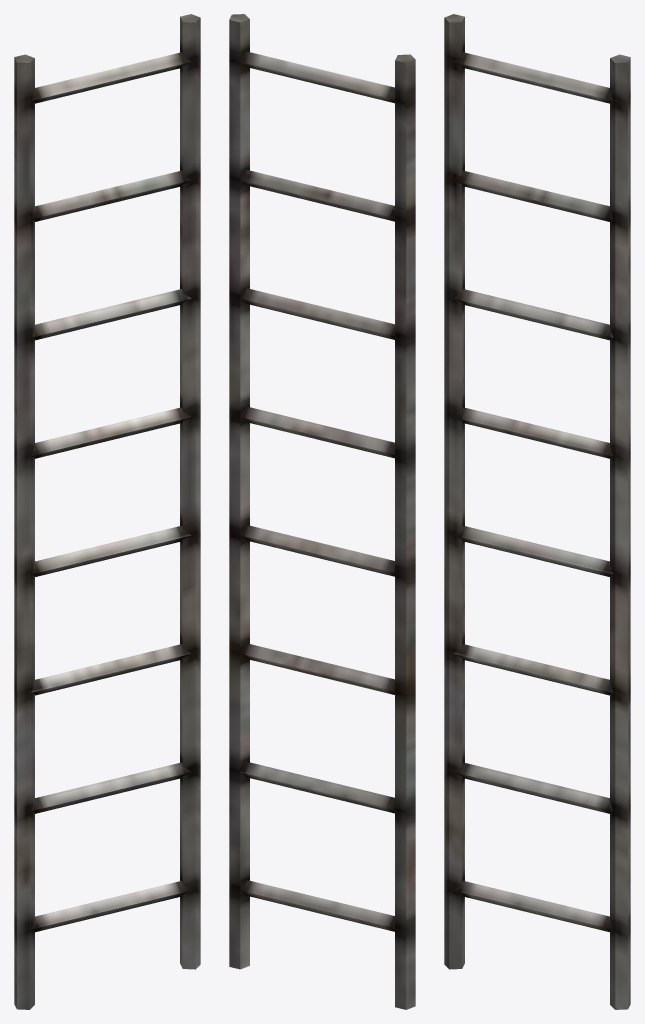
File: fire_ladder.glb
3 renders of one model, left to right at view 1: azimuth 30°, elevation 25°; view 2: azimuth 150°, elevation 25°; view 3: azimuth 330°, elevation 25°, orthographic.
Parts seen in each view (by area): view 1: fire_ladder; view 2: fire_ladder; view 3: fire_ladder.
Boxes of the visible parts, x1=… form: fire_ladder: x1=14, y1=14, x2=200, y2=1009; fire_ladder: x1=229, y1=14, x2=415, y2=1009; fire_ladder: x1=444, y1=14, x2=630, y2=1009.
Bounding box in the file's own units: 0.4876 × 2.4 × 0.0452.
1 material, 1 textured.
